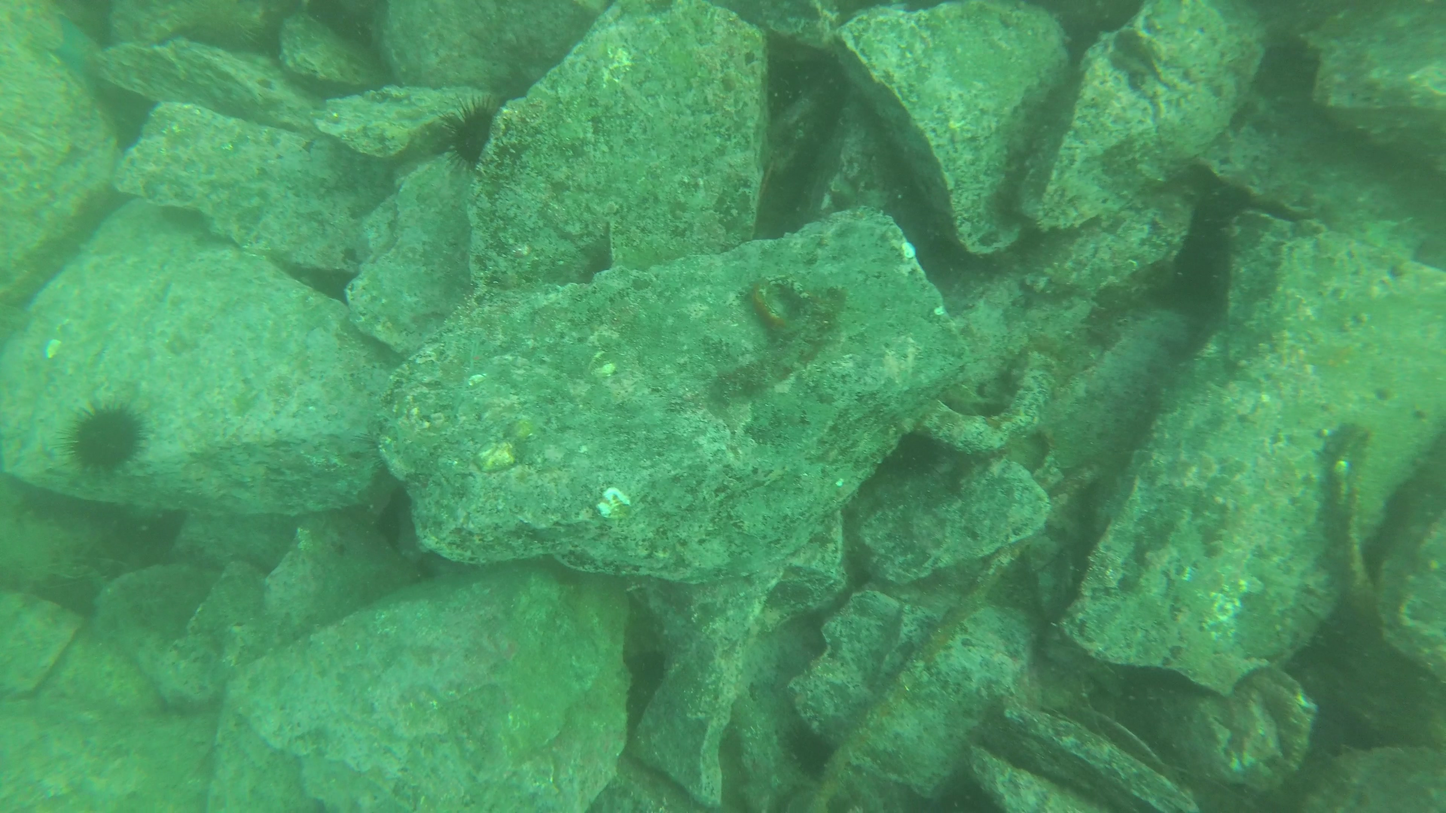starfish: (56, 394, 155, 484), (436, 90, 505, 175)
